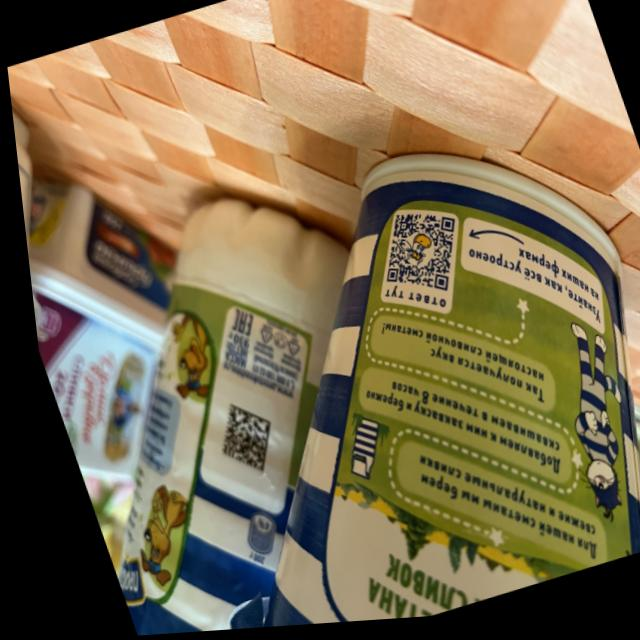datamatrix: (197, 396, 275, 485)
qrcode: (358, 203, 471, 314)
